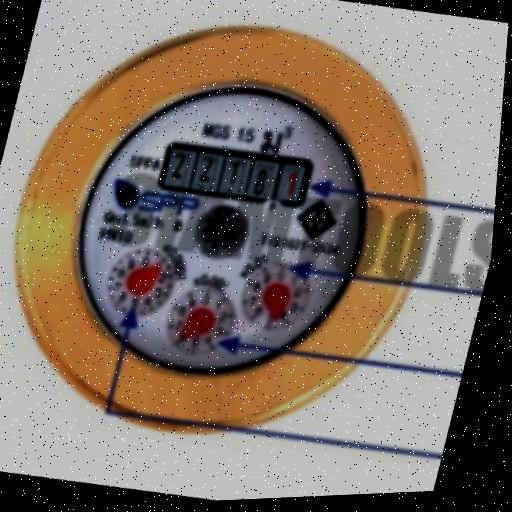1: (222, 159, 246, 194), (280, 168, 303, 201)
2: (166, 153, 191, 187), (194, 156, 217, 192)
8: (250, 164, 273, 199)
border_water_meter_number: (154, 134, 317, 215)
